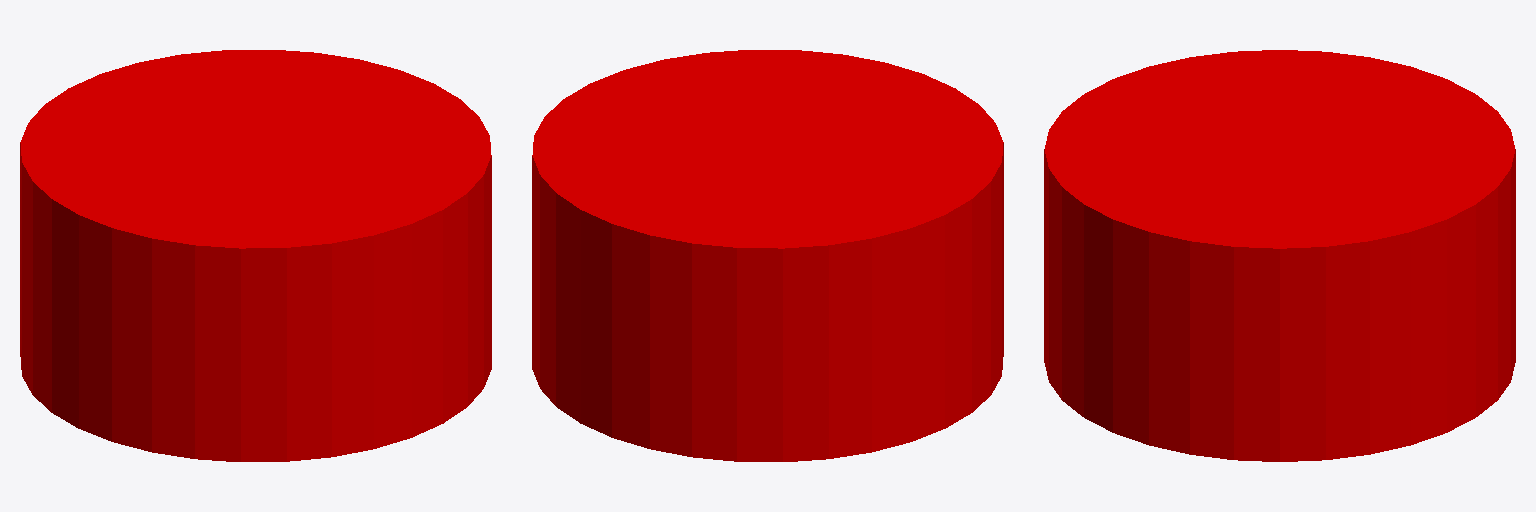
The robot description file, URDF, robot "simplegoal":
<?xml version="1.0"?> 
<robot name="simplegoal">
    <!-- Colors --> 
    <material name="red">
        <color rgba="0.925 0 0 1"/>
    </material>

    <!-- Goal -->
    <link name="base_link">
        <visual>
            <geometry>
                <cylinder radius="1" length="1"/>
                <origin rpy="0 0 0" xyz="0 0 0.5"/>
            </geometry>
            <material name="red"/>
        </visual>
        <collision> 
             <geometry> 
                <cylinder radius="0.05" length="0.05"/>
                <origin rpy="0 0 0" xyz="0 0 0.025"/>
            </geometry>
        </collision> 
        <inertial> 
            <mass value="6"/>
            <inertia ixx="0" ixy="0" ixz="0" iyy="0" iyz="0" izz="0"/>
        </inertial> 
    </link>
</robot>

--- What the picture shows (computed from the rendered views, not written in the file) ---
The picture shows the robot from 3 angles, left to right: view 1: azimuth 30°, elevation 25°; view 2: azimuth 150°, elevation 25°; view 3: azimuth 270°, elevation 25°; orthographic projection.
Model simplegoal with 1 links and 0 joints (none), rooted at base_link, posed all joints at 0.
Links seen in each view (by area): view 1: base_link; view 2: base_link; view 3: base_link.
Boxes of the visible links, left/top/right/bottom form: base_link: left=20, top=50, right=491, bottom=461; base_link: left=532, top=50, right=1003, bottom=461; base_link: left=1044, top=50, right=1515, bottom=461.
Size in the robot's own frame: 2 by 2 by 1 metres.
Geometry: primitives only (box / cylinder / sphere), no mesh files.